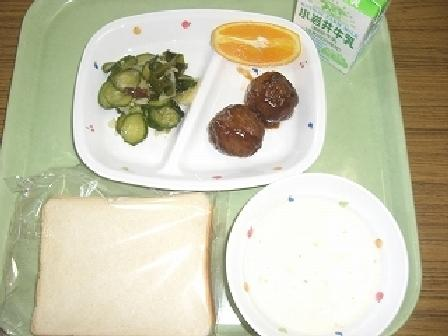Citrus: (206, 9, 303, 68)
Milk: (293, 2, 398, 73)
Rice: (26, 178, 229, 335)
Salad: (83, 43, 196, 141)
Soups: (231, 180, 407, 335)
cutlet: (211, 65, 306, 158)
